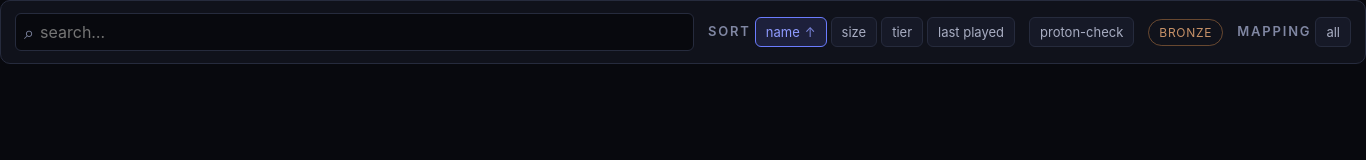
Test: FilterBar proton-check › zyklisiert die quelle der proton-zuordnung und nennt den zustand
Click the button with class "compat-source": (1333, 32) [1315, 17, 1351, 47]
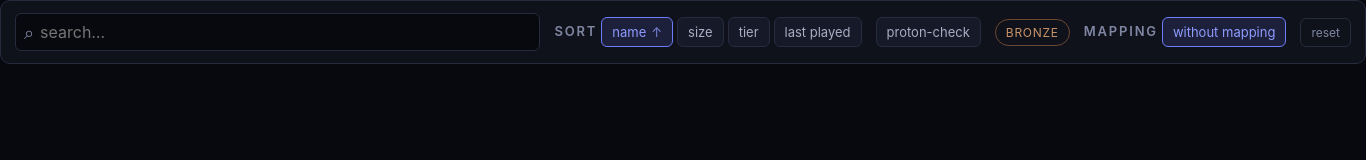
Result: the button with class "compat-source" reads "without mapping"
Click the button with class "compat-source": (1224, 32) [1162, 17, 1286, 47]
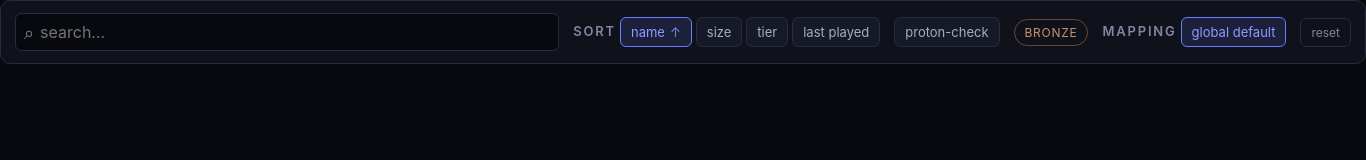
Result: the button with class "compat-source" reads "global default"
Click the button with class "compat-source": (1234, 32) [1181, 17, 1286, 47]
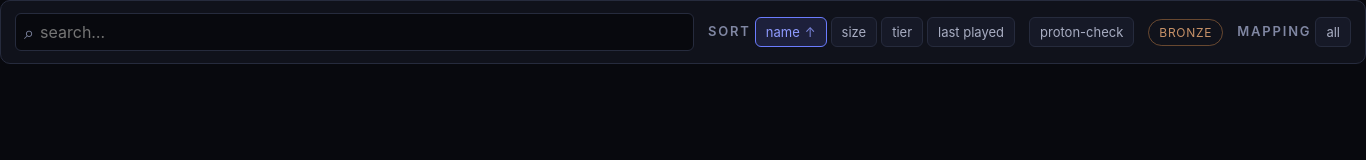
Result: the button with class "compat-source" reads "all" at [1315, 17, 1351, 47]
